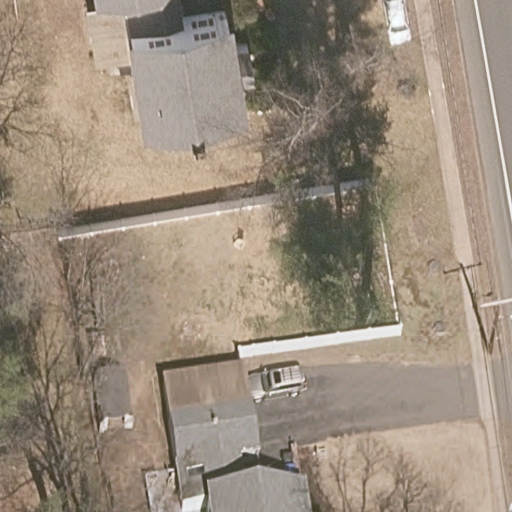DT: (477, 296, 512, 356)
